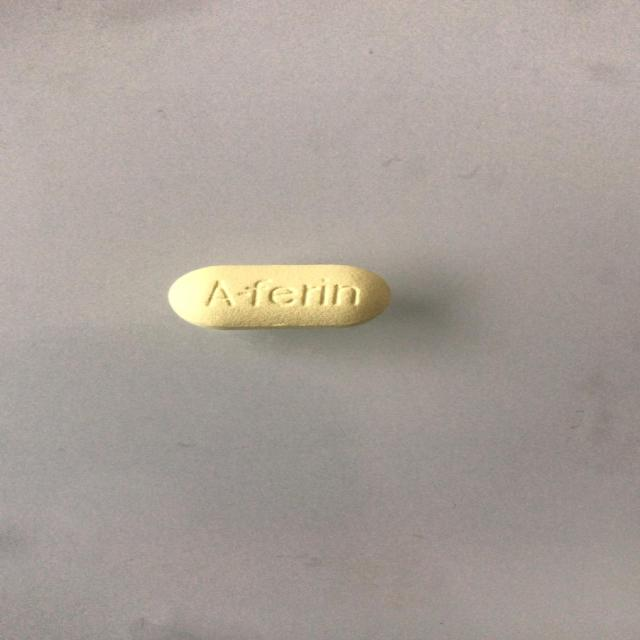pills: (147, 247, 405, 350)
